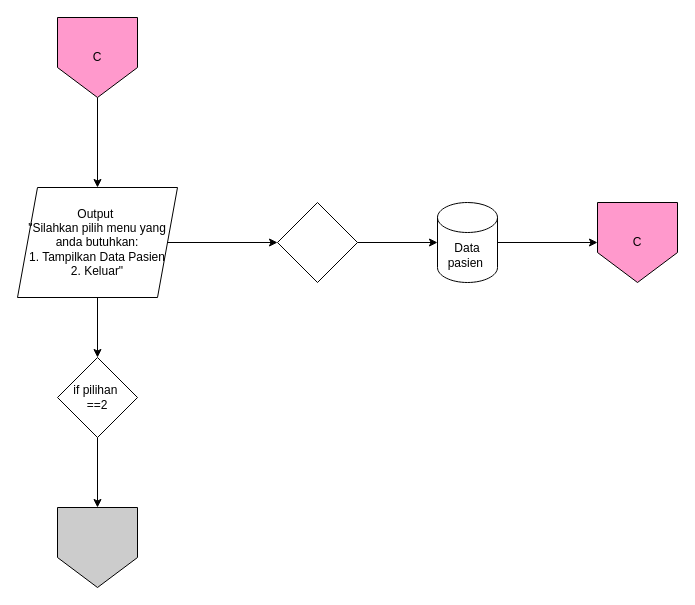
Image size: 695x605. Some labels were removed from this diagram. The centre of each missing label's shape, as x and y in pixels:
if pilihan == 1: the point at 317,242
Menu Utama: the point at 97,547
